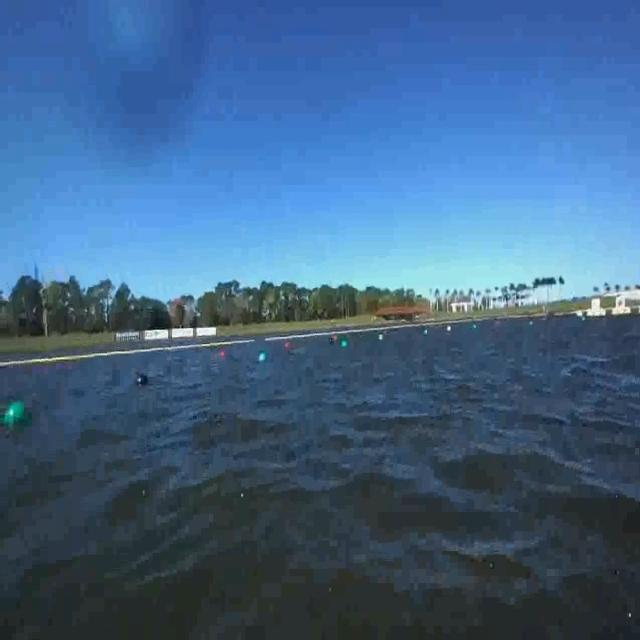black-buoy: (135, 378, 157, 389)
green-buoy: (8, 402, 26, 419), (260, 351, 269, 364)
